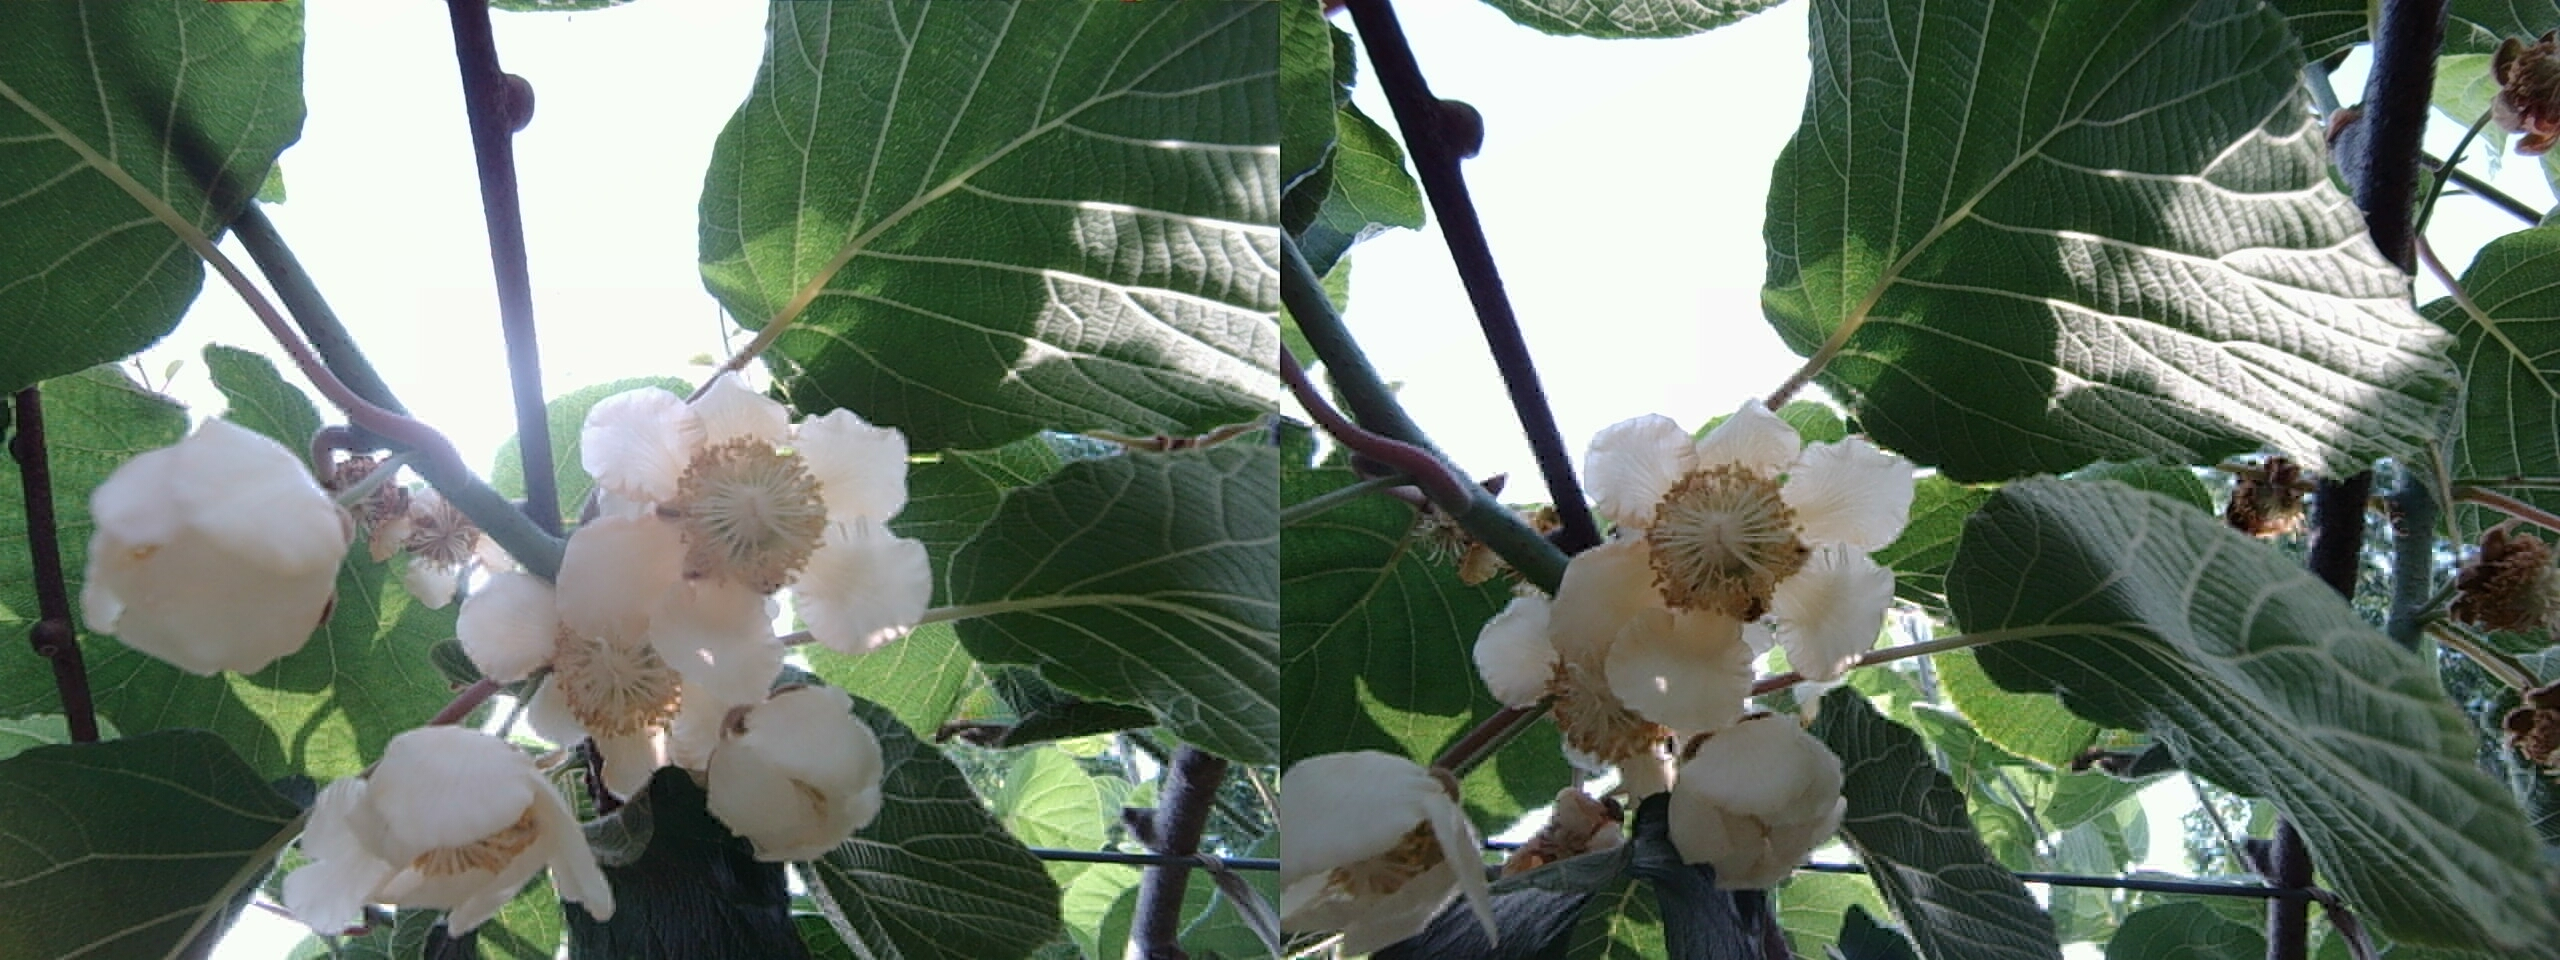flower: (1549, 397, 1882, 713), (581, 374, 893, 635), (483, 532, 753, 784), (289, 730, 588, 929), (782, 429, 922, 642)
